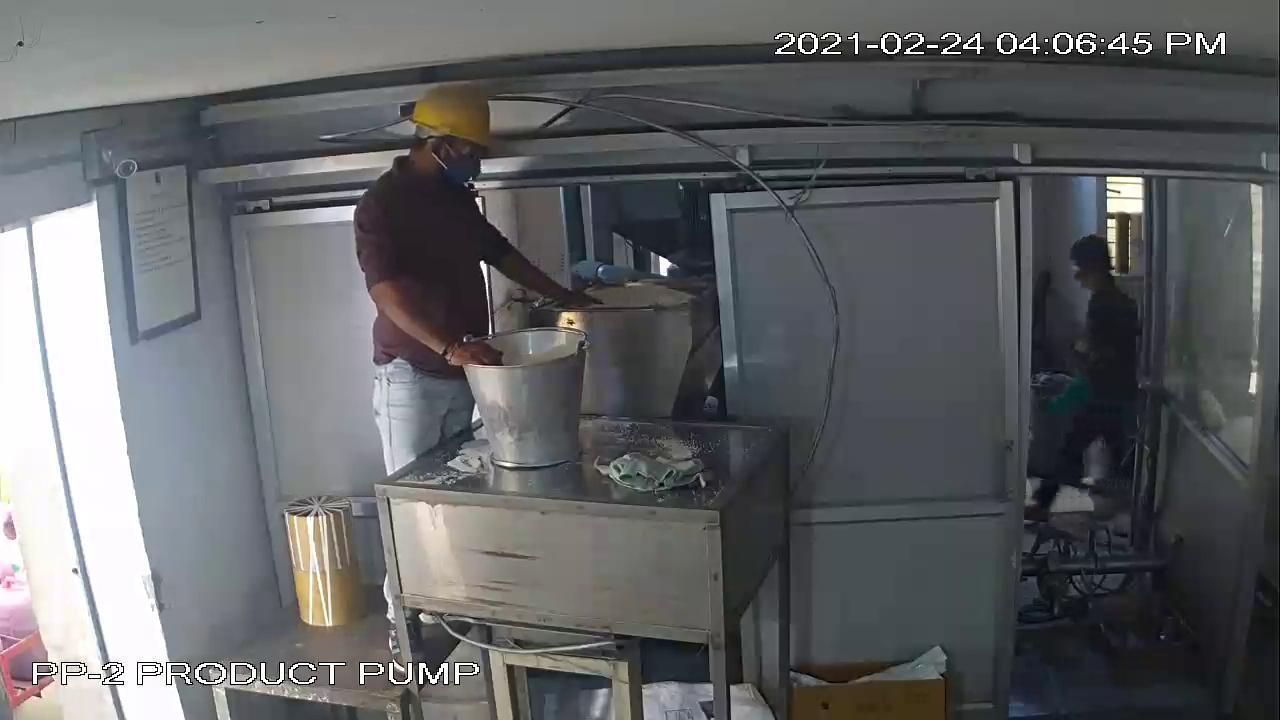helmet: (396, 74, 522, 167)
